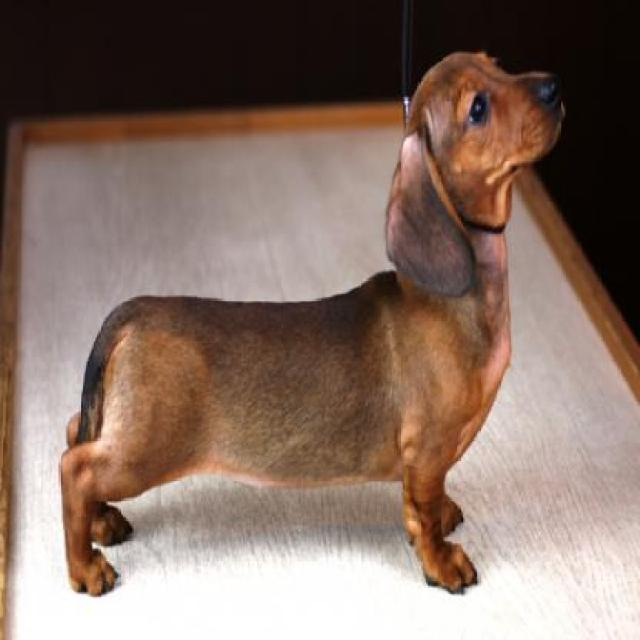Dog: (56, 40, 564, 600)
